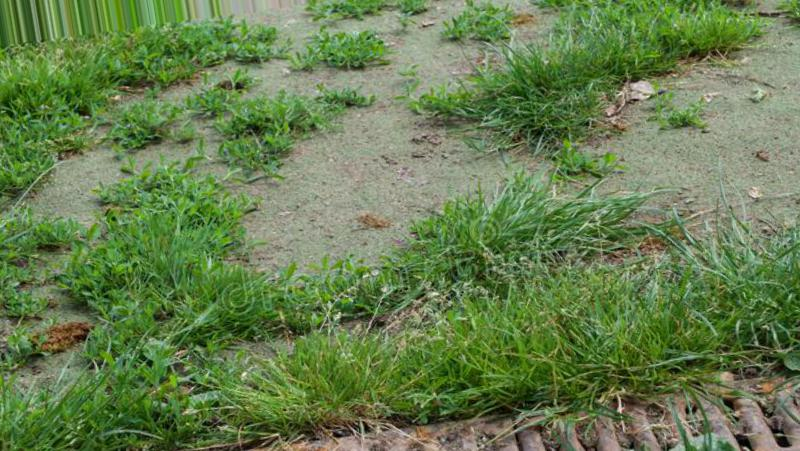patch: (633, 101, 792, 198), (304, 131, 468, 198), (274, 198, 365, 257), (365, 69, 424, 98), (268, 62, 306, 98), (51, 169, 86, 208)
